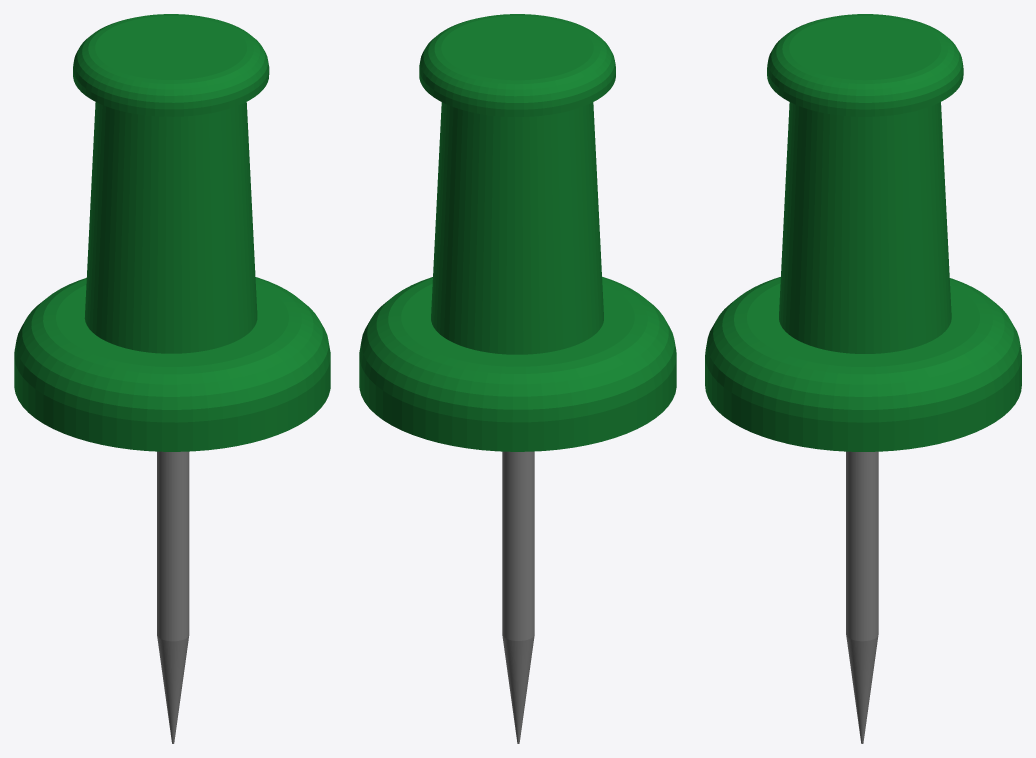
File: Pin greenNEW.fbx
3 views of the same model, side by side, from view 1: azimuth 30°, elevation 25°; view 2: azimuth 150°, elevation 25°; view 3: azimuth 270°, elevation 25° (orthographic).
Parts seen in each view (by area): view 1: pin, needle; view 2: pin, needle; view 3: pin, needle.
Part boxes in pixels (<box>): pin: <box>14,14,330,451</box>; needle: <box>157,451,189,743</box>; pin: <box>359,14,676,451</box>; needle: <box>502,451,534,743</box>; pin: <box>705,14,1021,451</box>; needle: <box>846,451,878,743</box>.
Bounding box in the file's own units: 87.5 × 212 × 87.5.
